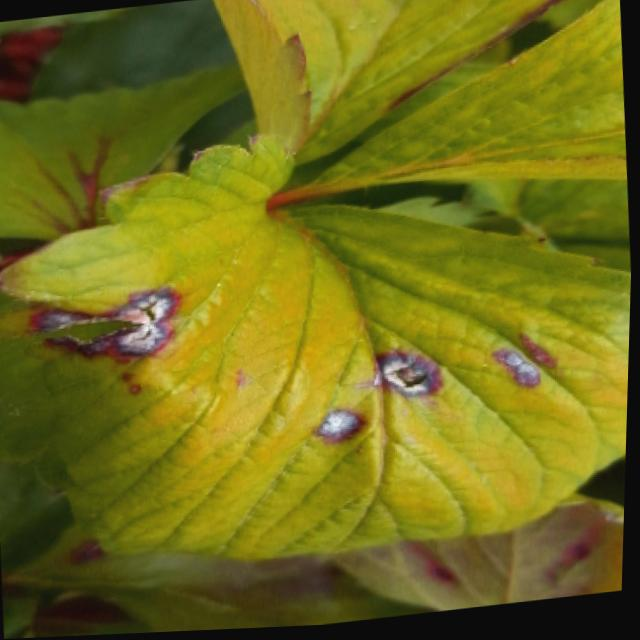Leaf Spot: (0, 136, 633, 565), (208, 0, 577, 169), (9, 522, 439, 634), (332, 495, 628, 615)
